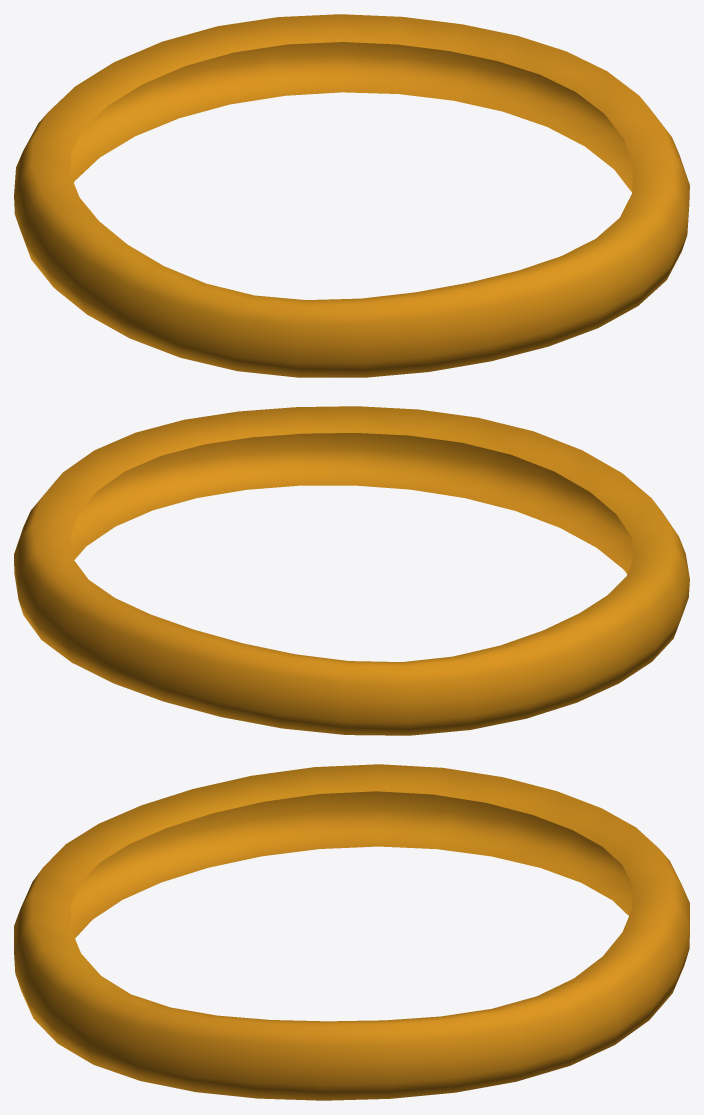
The model's file is Rope.fbx.
3 views of the same model, one above another, from view 1: azimuth 30°, elevation 25°; view 2: azimuth 150°, elevation 25°; view 3: azimuth 270°, elevation 25° (orthographic).
Visible parts, largest first — view 1: Plane.001; view 2: Plane.001; view 3: Plane.001.
Boxes of the visible parts, x1,y1,x2,y2 form: Plane.001: (14,14,689,377); Plane.001: (14,406,689,735); Plane.001: (14,764,689,1100).
Bounding box in the file's own units: 97.2 × 14.72 × 97.04.
